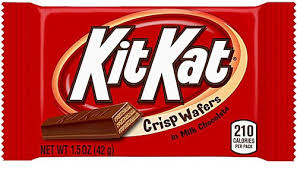kitkat: (4, 3, 296, 158)
